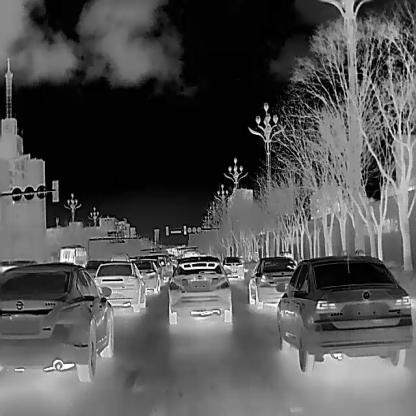car: (0, 256, 135, 391), (276, 254, 414, 375), (167, 253, 231, 325), (92, 260, 145, 312), (247, 255, 295, 308), (132, 257, 162, 294), (59, 244, 89, 267), (222, 253, 245, 281)
